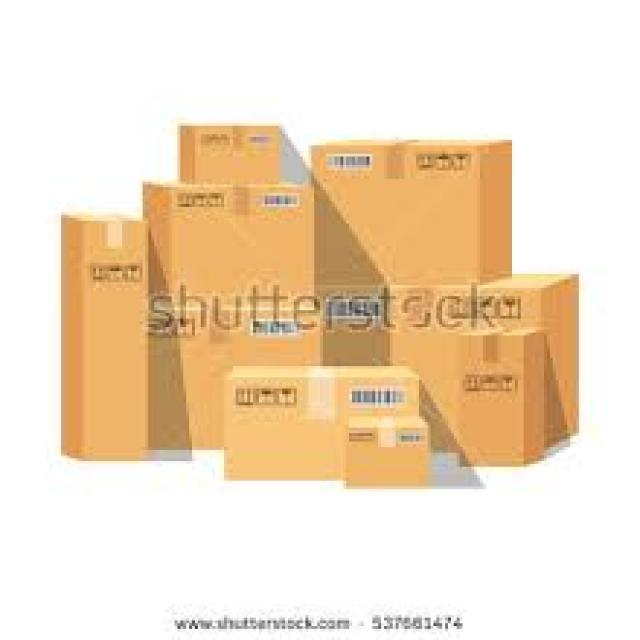cardboard: (140, 176, 311, 444), (308, 140, 509, 366), (390, 271, 576, 458), (224, 360, 416, 478), (58, 210, 146, 456), (454, 324, 547, 464), (341, 408, 431, 484), (181, 123, 280, 184)
